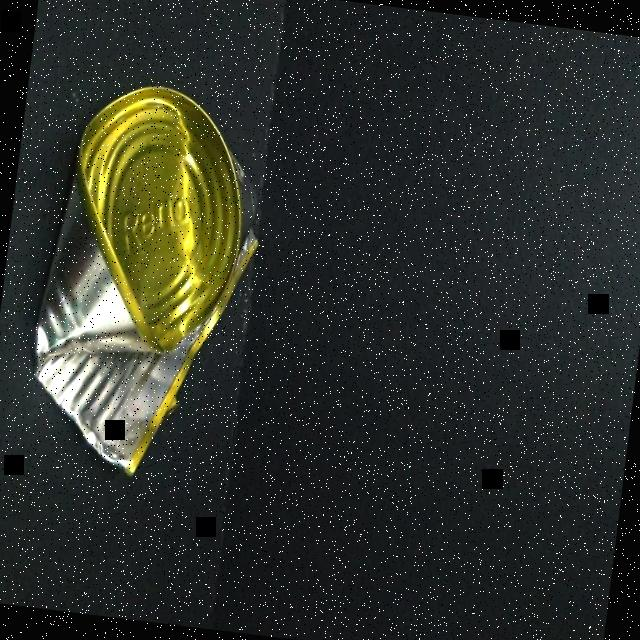can: (8, 71, 278, 489)
